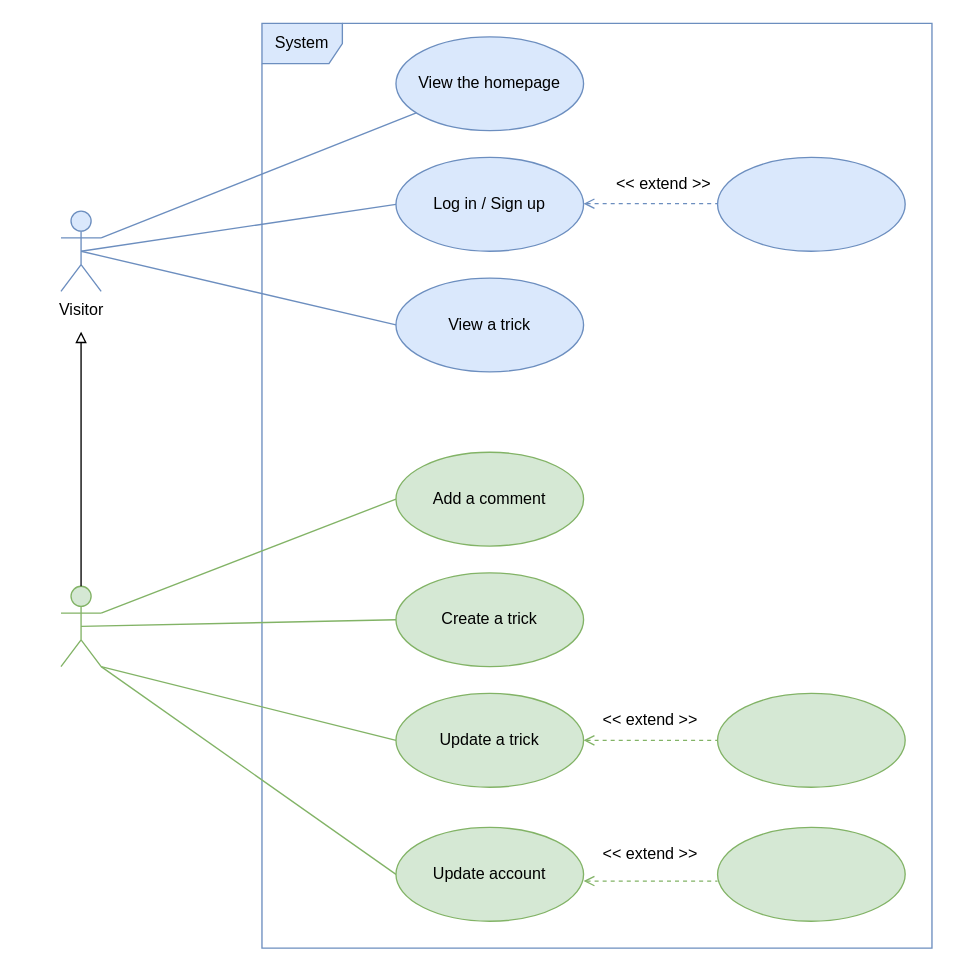
Some shapes in this 955 by 972 pixel diagram are drawn without their labels. The box of each missing label's shape, as (x1, y1, x2, y2) in pixels:
Connected User: (60, 585, 101, 667)
Delete a trick: (716, 692, 905, 787)
Delete account: (716, 826, 905, 921)
Forgot password: (716, 156, 905, 251)
